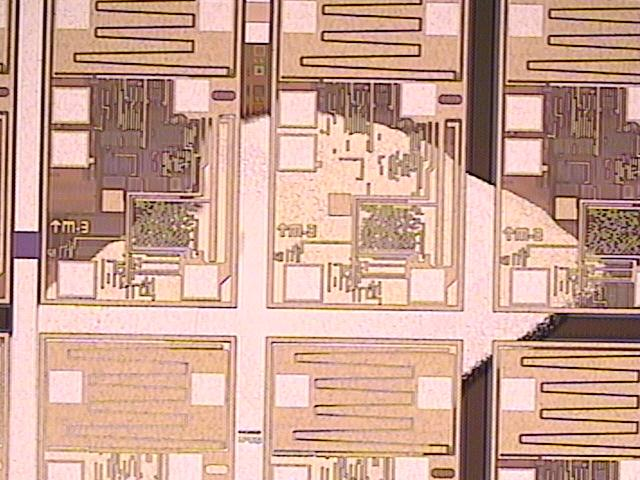BLOCK ETCH: (1, 110, 612, 480)
